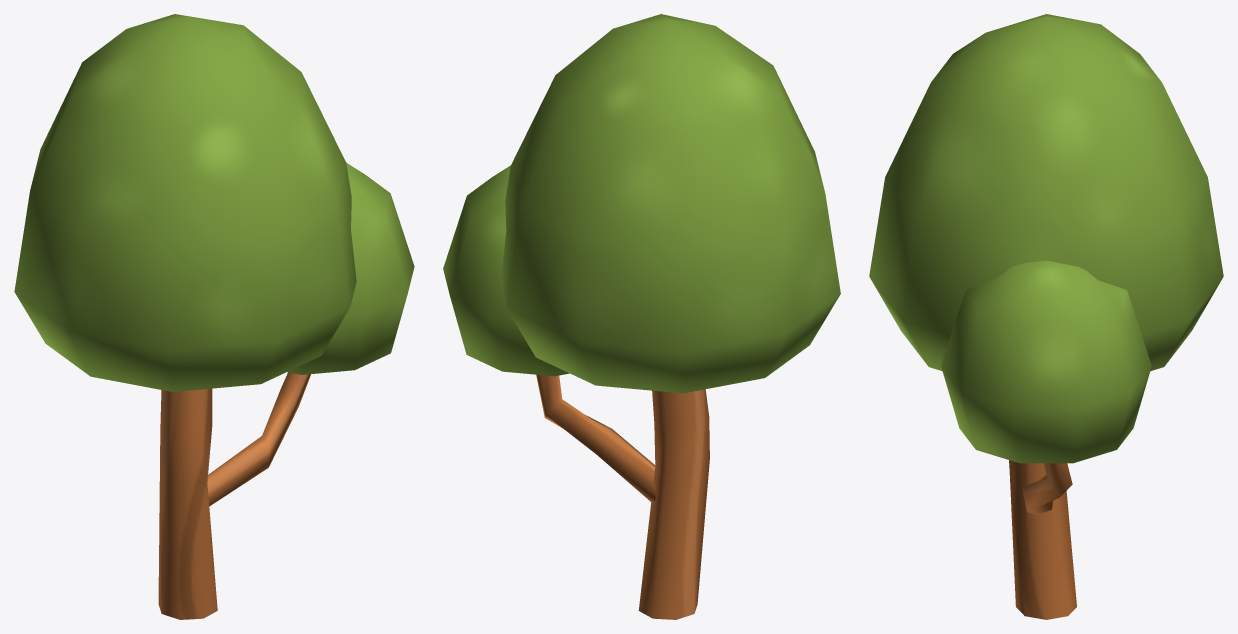
Rendered from Arvore_4.fbx.
The picture shows the model from 3 angles, left to right: view 1: azimuth 30°, elevation 25°; view 2: azimuth 150°, elevation 25°; view 3: azimuth 270°, elevation 25°; orthographic projection.
Parts seen in each view (by area): view 1: Arvore_4; view 2: Arvore_4; view 3: Arvore_4.
Boxes of the visible parts, box(x1,y1,x2,y2) form: Arvore_4: box(14, 14, 414, 619); Arvore_4: box(443, 14, 840, 619); Arvore_4: box(869, 14, 1223, 619).
Bounding box in the file's own units: 128 × 203 × 111.
